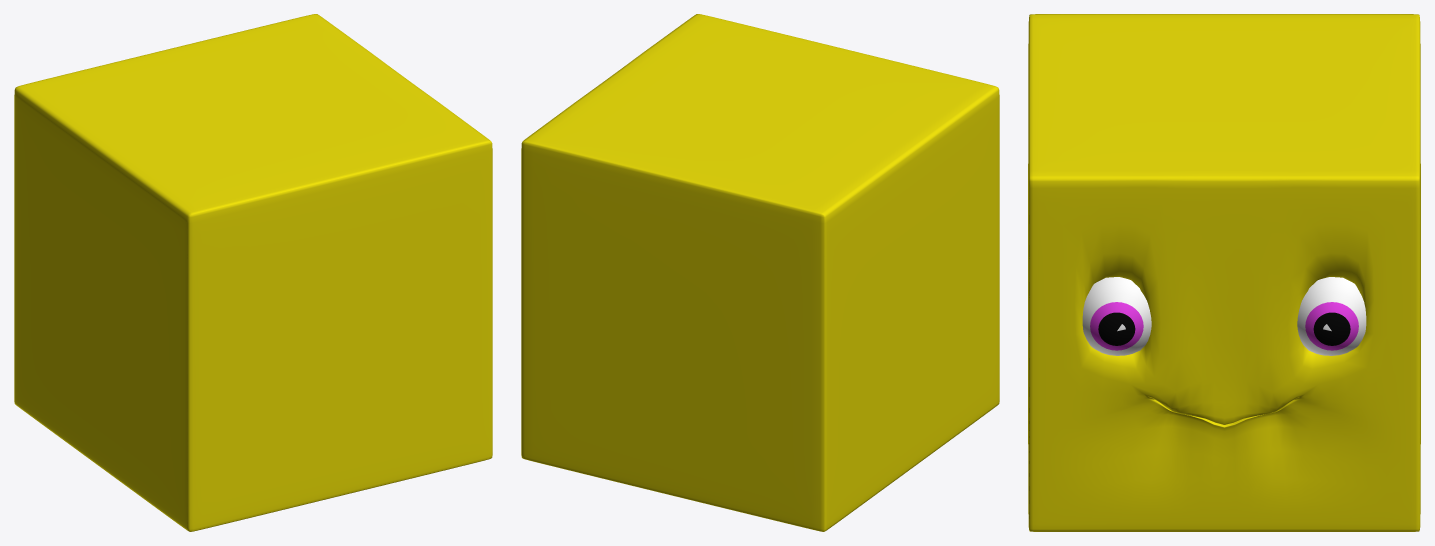
Rendered from КУБИК1.glb.
3 views of the same model, side by side, from view 1: azimuth 30°, elevation 25°; view 2: azimuth 150°, elevation 25°; view 3: azimuth 270°, elevation 25° (orthographic). The views are drawn at different scales.
Visible parts, largest first — view 1: Cube; view 2: Cube; view 3: Cube, Sphere.
Boxes of the visible parts, x1=… form: Cube: x1=14, y1=14, x2=492, y2=531; Cube: x1=521, y1=14, x2=999, y2=531; Cube: x1=1028, y1=14, x2=1420, y2=531; Sphere: x1=1082, y1=277, x2=1366, y2=355.
Size of the model in its own units: 2.09 by 2 by 2.
